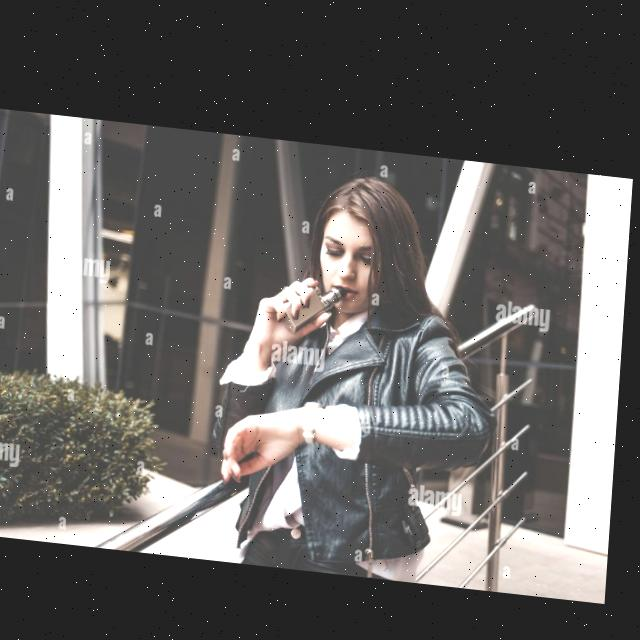vape: (285, 272, 351, 330)
